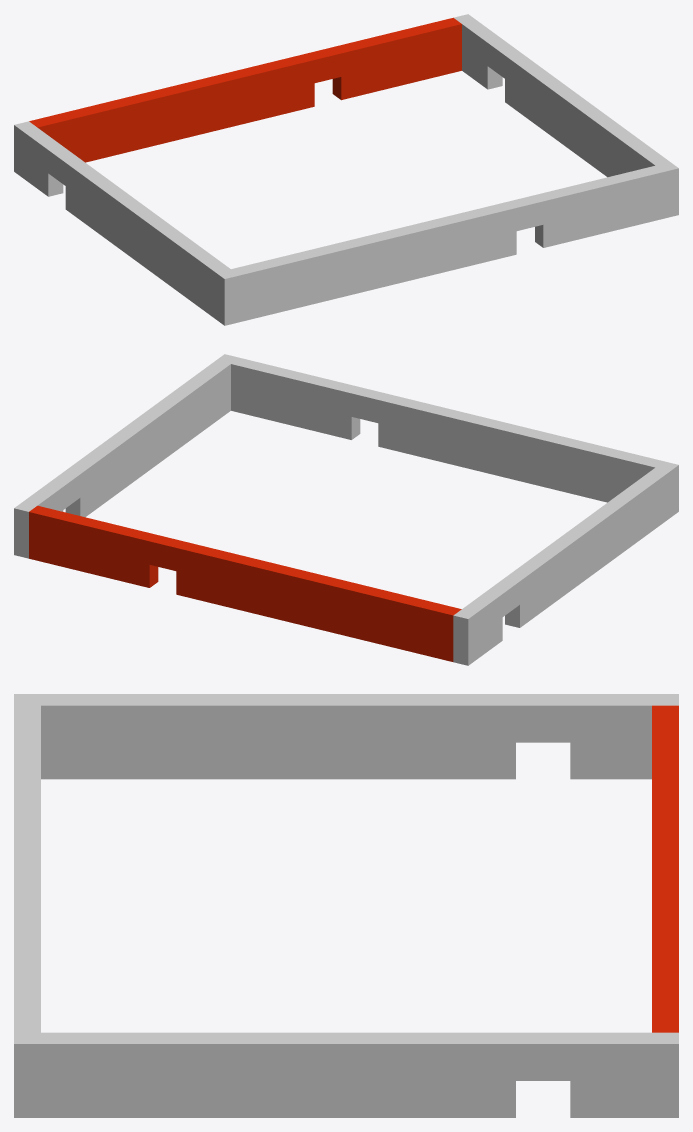
Rendered from wall_test_big.fbx.
3 views of the same model, one above another, from view 1: azimuth 30°, elevation 25°; view 2: azimuth 150°, elevation 25°; view 3: azimuth 270°, elevation 25° (orthographic). The views are drawn at different scales.
Visible parts, largest first — view 1: Cube; view 2: Cube; view 3: Cube.
Part boxes in pixels (x1,y1,x2,y2): Cube: (14,14,678,325); Cube: (14,354,678,665); Cube: (14,694,678,1117).
Size of the model in its own units: 6100 by 600 by 4900.
